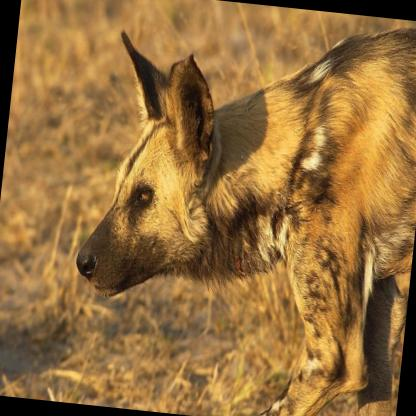African_hunting_dog: (59, 0, 416, 416)
